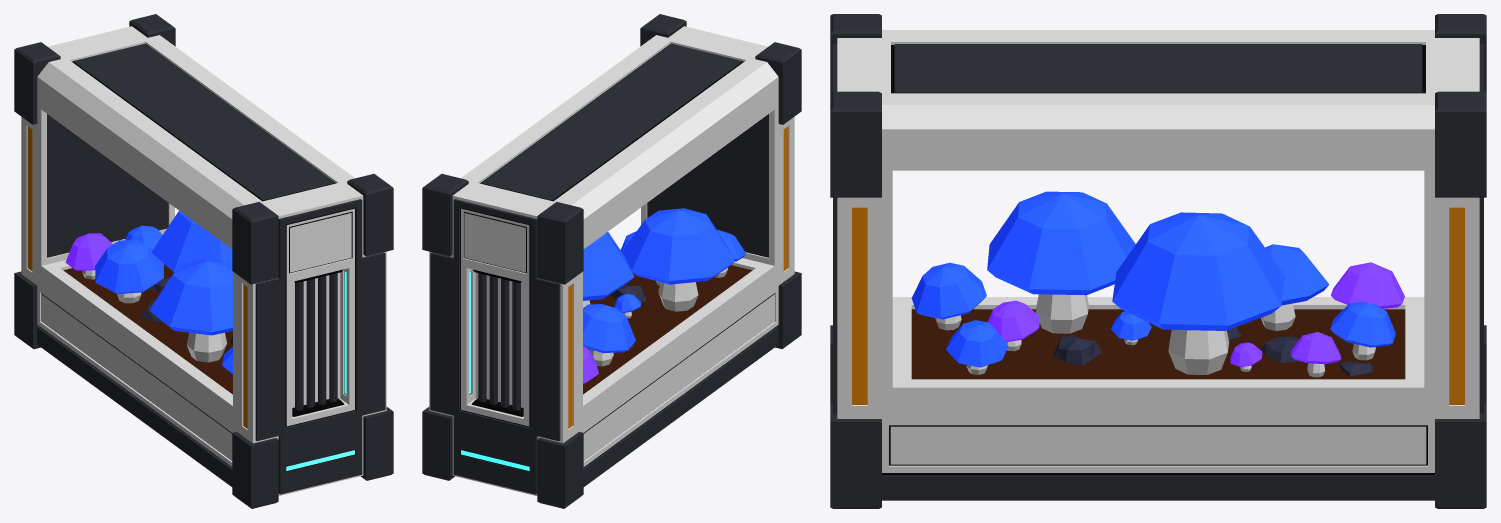
Rendered from SM_Mushroom_DisplayUnit.fbx.
The picture shows the model from 3 angles, left to right: view 1: azimuth 30°, elevation 25°; view 2: azimuth 150°, elevation 25°; view 3: azimuth 270°, elevation 25°; orthographic projection. The views are drawn at different scales.
Parts seen in each view (by area): view 1: SM_Mushroom_DisplayUnit; view 2: SM_Mushroom_DisplayUnit; view 3: SM_Mushroom_DisplayUnit.
Boxes of the visible parts, x1,y1,x2,y2 form: SM_Mushroom_DisplayUnit: [14, 14, 393, 508]; SM_Mushroom_DisplayUnit: [422, 14, 801, 508]; SM_Mushroom_DisplayUnit: [830, 14, 1486, 508].
Size of the model in its own units: 48 by 82.7 by 123.
